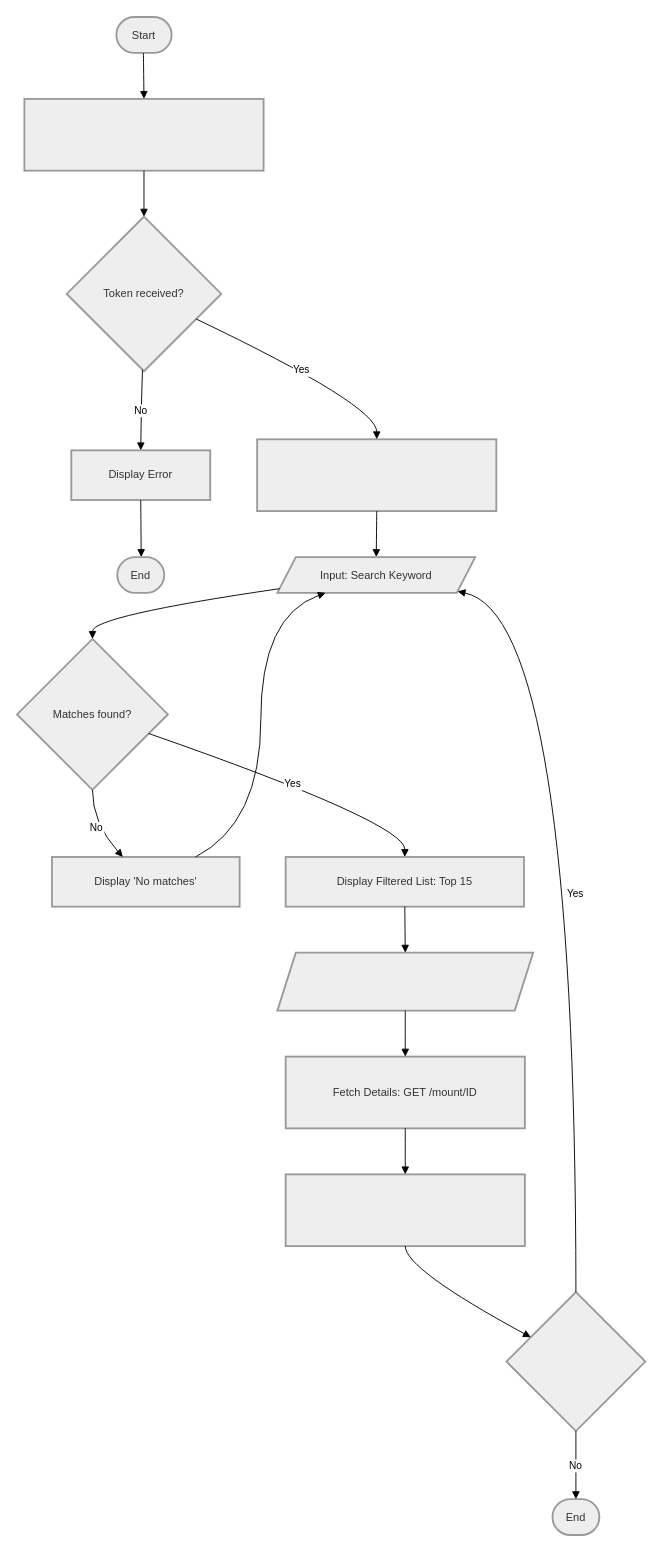
Some shapes in this 661 by 1551 pixel diagram are drawn without their labels. Here are the shapes that lost their labels. From the top down, the box of each, then its label:
(23, 98, 264, 171): Authenticate: POST to Blizzard OAuth
(256, 438, 497, 512): Fetch Mount Index: GET /mount/index
(276, 951, 534, 1011): Input: Select Mount Number
(284, 1173, 525, 1247): Display Details: Name, Source, Desc
(505, 1291, 646, 1432): Search again?
